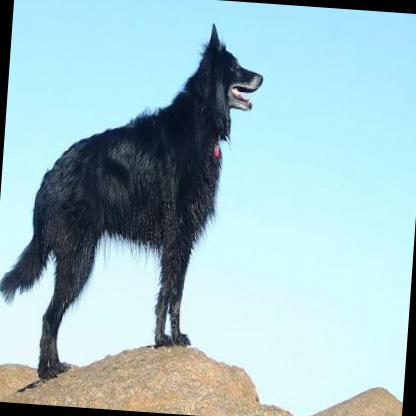groenendael: (0, 7, 268, 392)
